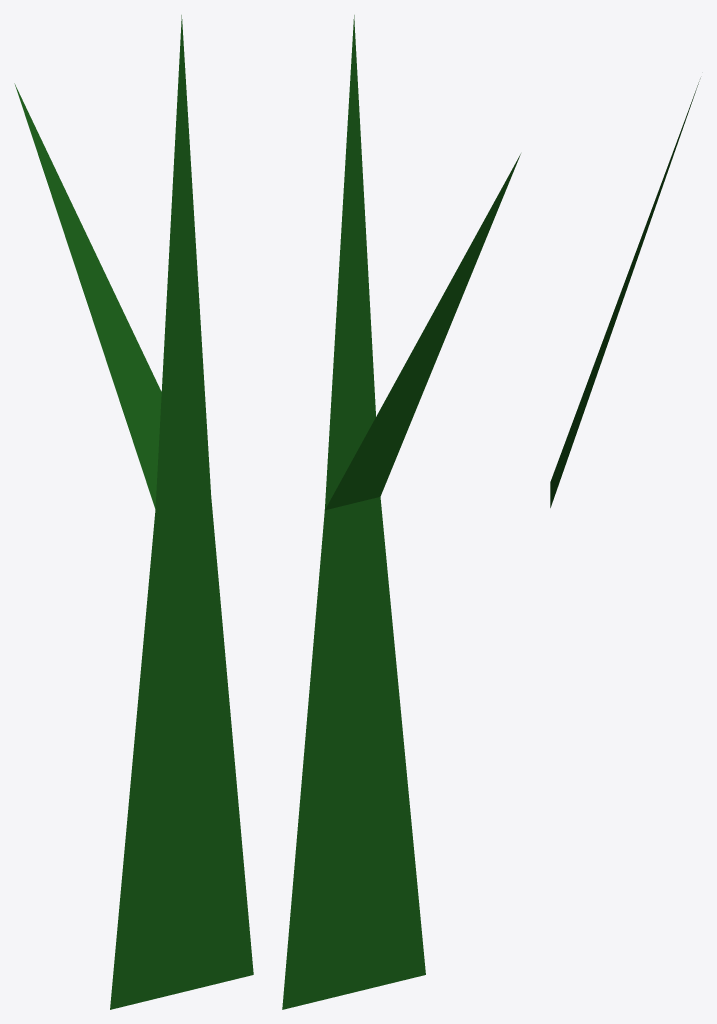
File: grass_patch.glb
3 renders of one model, left to right at view 1: azimuth 30°, elevation 25°; view 2: azimuth 210°, elevation 25°; view 3: azimuth 270°, elevation 25°, orthographic.
Visible parts, largest first — view 1: Plane; view 2: Plane; view 3: Plane.
Boxes of the visible parts, x1,y1,x2,y2 form: Plane: (14,15,253,1009); Plane: (282,15,520,1009); Plane: (550,78,700,507).
Bounding box in the file's own units: 0.099 × 0.5714 × 0.082.
